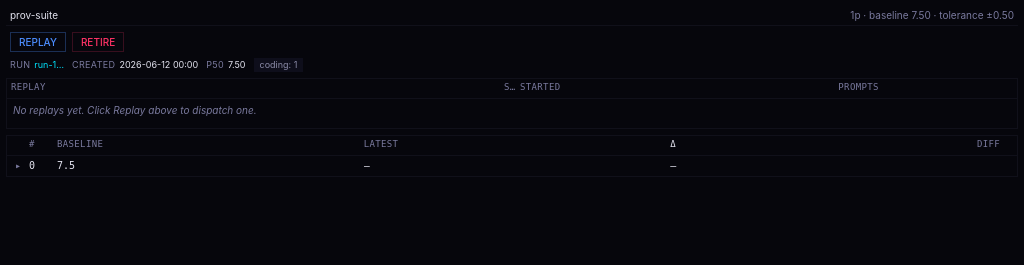
Scenario: SuiteDetailView provenance (v0.4.37) › tombstone renders the exact copy for dead originals
The width and height of the screenshot is (1024, 265).
What coordinates should you click on to do the following:
click the button with test id "prompt-expand-btn"
I would click on:
 (18, 166)
Its box is x1=11 y1=156 x2=25 y2=176.
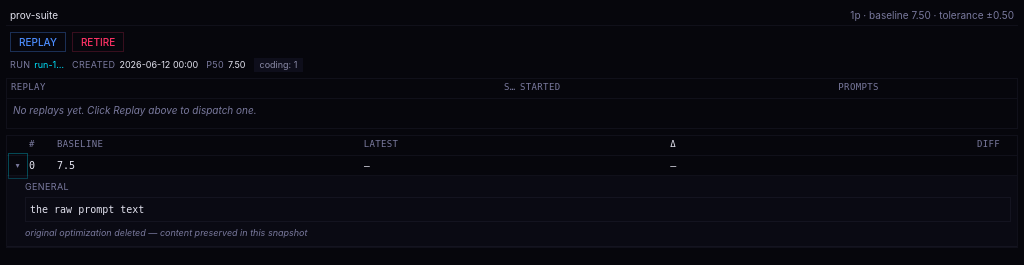
Now the text with test id "prompt-tombstone" reads "original optimization deleted — content preserved in this snapshot", box x1=25 y1=227 x2=307 y2=238
